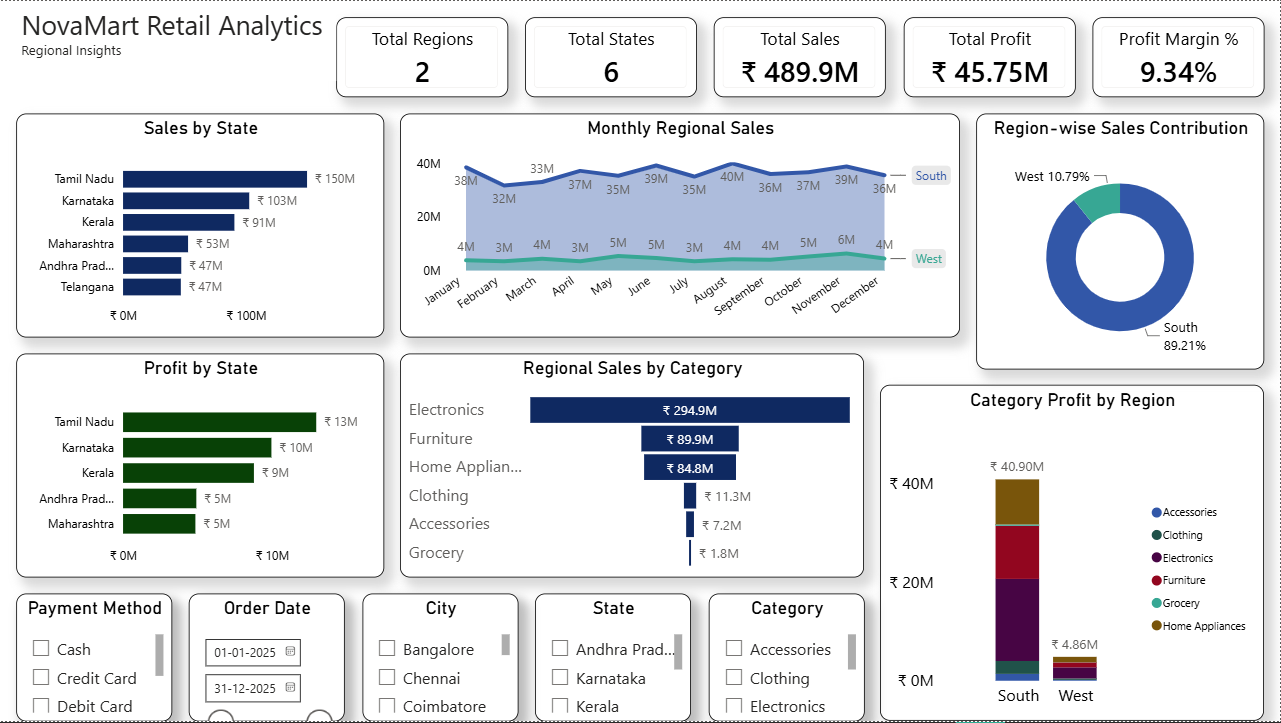

This screenshot's page, from the dashboard's own definition file:
{"tool":"powerbi","page":{"name":"🌍 Regional Insights","canvas":[1280,720],"ordinal":4},"visuals":[{"type":"group","id":"g1","title":"Group 2","box":[336,16,928,80],"z":0},{"type":"cardVisual","title":"Total Regions","fields":{"Data":["Measures (2).Total Regions"]},"box":[336,16,171.9,80],"z":0,"group":"g1"},{"type":"columnChart","title":"Category Profit by Region","fields":{"Category":["NovaMart Sales.region"],"Series":["NovaMart Sales.category"],"Y":["Sum(NovaMart Sales.profit)"]},"box":[880,384,384,336],"z":1000},{"type":"slicer","title":"State","fields":{"Values":["NovaMart Sales.state"]},"box":[535.2,592,155.8,128],"z":1000,"group":"g2"},{"type":"cardVisual","title":"Profit Margin %","fields":{"Data":["Measures (2).Profit Margin %"]},"box":[1092.1,16,171.9,80],"z":2000,"group":"g1"},{"type":"clusteredBarChart","title":"Sales by State","fields":{"Category":["NovaMart Sales.state"],"Y":["Measures (2).Total Sales"]},"box":[16,112,368,224],"z":2000},{"type":"slicer","title":"Category","fields":{"Values":["NovaMart Sales.category"]},"box":[708.2,592,155.8,128],"z":2000,"group":"g2"},{"type":"areaChart","title":"Monthly Regional Sales","fields":{"Category":["NovaMart Sales.order_date.Variation.Date Hierarchy.Month"],"Y":["Sum(NovaMart Sales.sales)"],"Series":["NovaMart Sales.region"]},"box":[400,112,560,224],"z":3000},{"type":"cardVisual","title":"Total Profit","fields":{"Data":["Measures (2).Total Profit"]},"box":[903.1,16,171.9,80],"z":4000,"group":"g1"},{"type":"donutChart","title":"Region-wise Sales Contribution","fields":{"Category":["NovaMart Sales.region"],"Y":["Sum(NovaMart Sales.sales)"]},"box":[976,112,288,256],"z":4000},{"type":"slicer","title":"Payment Method","fields":{"Values":["NovaMart Sales.payment_method"]},"box":[16,592,155.8,128],"z":4000,"group":"g2"},{"type":"funnel","title":"Regional Sales by Category","fields":{"Category":["NovaMart Sales.category","NovaMart Sales.region"],"Y":["Measures (2).Total Sales"]},"box":[400,352,464,224],"z":5000},{"type":"textbox","box":[16,0,320,80],"z":6000},{"type":"cardVisual","title":"Total Sales","fields":{"Data":["Measures (2).Total Sales"]},"box":[714.1,16,171.9,80],"z":6000,"group":"g1"},{"type":"clusteredBarChart","title":"Profit by State","fields":{"Category":["NovaMart Sales.state"],"Y":["Sum(NovaMart Sales.profit)"]},"box":[16,352,368,224],"z":7000},{"type":"cardVisual","title":"Total States","fields":{"Data":["Measures (2).Total States"]},"box":[525,16,171.9,80],"z":8000,"group":"g1"},{"type":"group","id":"g2","title":"Group 3","box":[16,592,848,128],"z":8000},{"type":"slicer","title":"City","fields":{"Values":["NovaMart Sales.city"]},"box":[362.1,592,155.8,128],"z":11000,"group":"g2"},{"type":"slicer","title":"Order Date","fields":{"Values":["NovaMart Sales.order_date"]},"box":[189.1,592,155.8,128],"z":12000,"group":"g2"}]}

Visuals, with their boxes in screenshot pixels (x1, y1, x2, y2), scaled from the page's 1280x720 canvas onto the 1281x723 screenshot:
"Group 2" group: x1=336 y1=16 x2=1265 y2=96
"Total Regions" cardVisual: x1=336 y1=16 x2=508 y2=96
"Category Profit by Region" columnChart: x1=881 y1=386 x2=1265 y2=722
"State" slicer: x1=536 y1=594 x2=692 y2=722
"Profit Margin %" cardVisual: x1=1093 y1=16 x2=1265 y2=96
"Sales by State" clusteredBarChart: x1=16 y1=112 x2=384 y2=337
"Category" slicer: x1=709 y1=594 x2=865 y2=722
"Monthly Regional Sales" areaChart: x1=400 y1=112 x2=961 y2=337
"Total Profit" cardVisual: x1=904 y1=16 x2=1076 y2=96
"Region-wise Sales Contribution" donutChart: x1=977 y1=112 x2=1265 y2=370
"Payment Method" slicer: x1=16 y1=594 x2=172 y2=722
"Regional Sales by Category" funnel: x1=400 y1=353 x2=865 y2=578
textbox: x1=16 y1=0 x2=336 y2=80
"Total Sales" cardVisual: x1=715 y1=16 x2=887 y2=96
"Profit by State" clusteredBarChart: x1=16 y1=353 x2=384 y2=578
"Total States" cardVisual: x1=525 y1=16 x2=697 y2=96
"Group 3" group: x1=16 y1=594 x2=865 y2=722
"City" slicer: x1=362 y1=594 x2=518 y2=722
"Order Date" slicer: x1=189 y1=594 x2=345 y2=722
